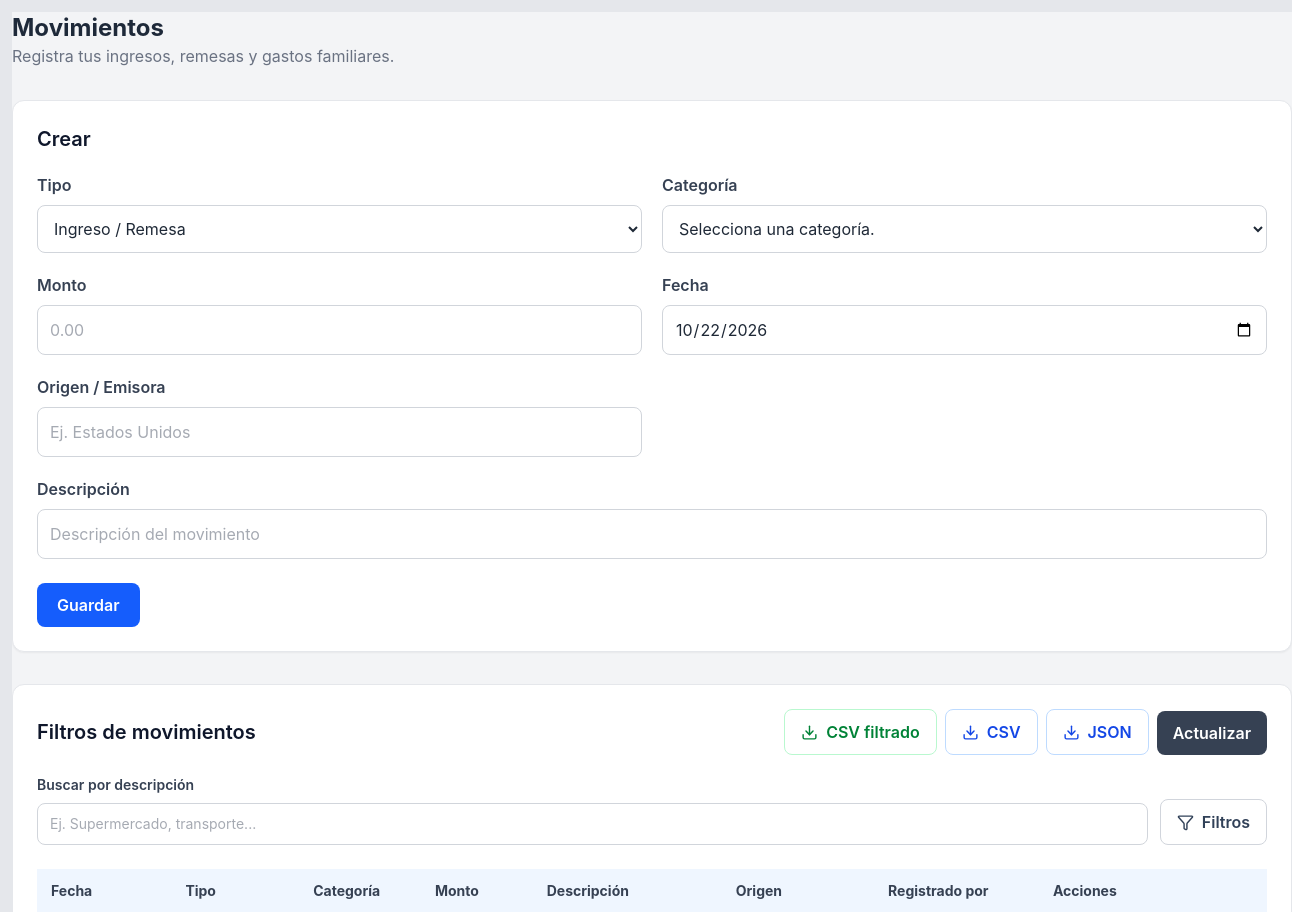
Scenario: Movimientos — exportación › "CSV filtrado" genera el archivo en el cliente con SOLO las filas visibles
Note: Filtro a una sola fila antes de exportar.
Type "supermercado" into the field with id "busquedaMovimientos".
click(592, 824); type("supermercado")  # box [37,803,1148,845]
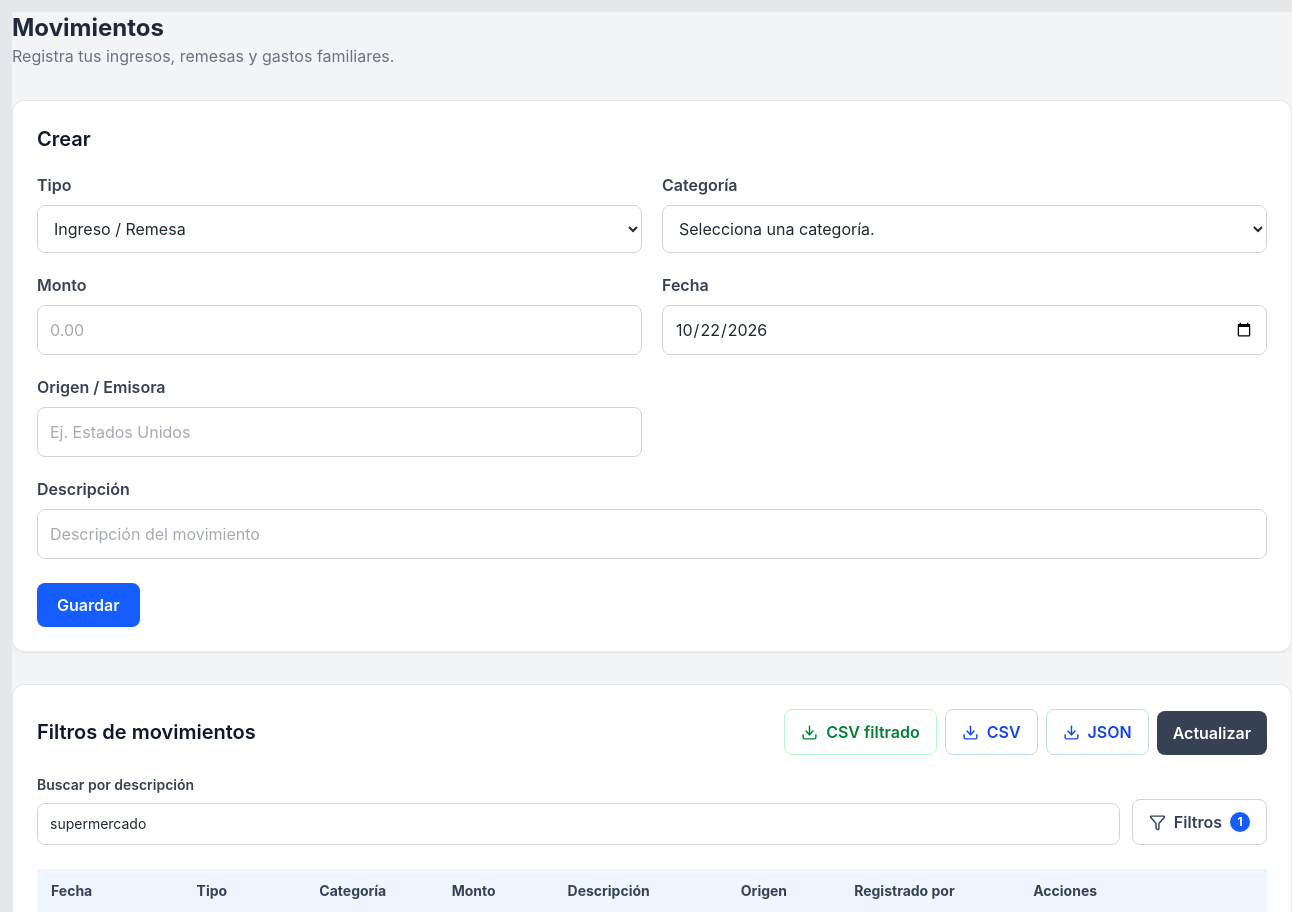
Click the button "CSV filtrado".
click(860, 732)  # box [784,709,937,755]
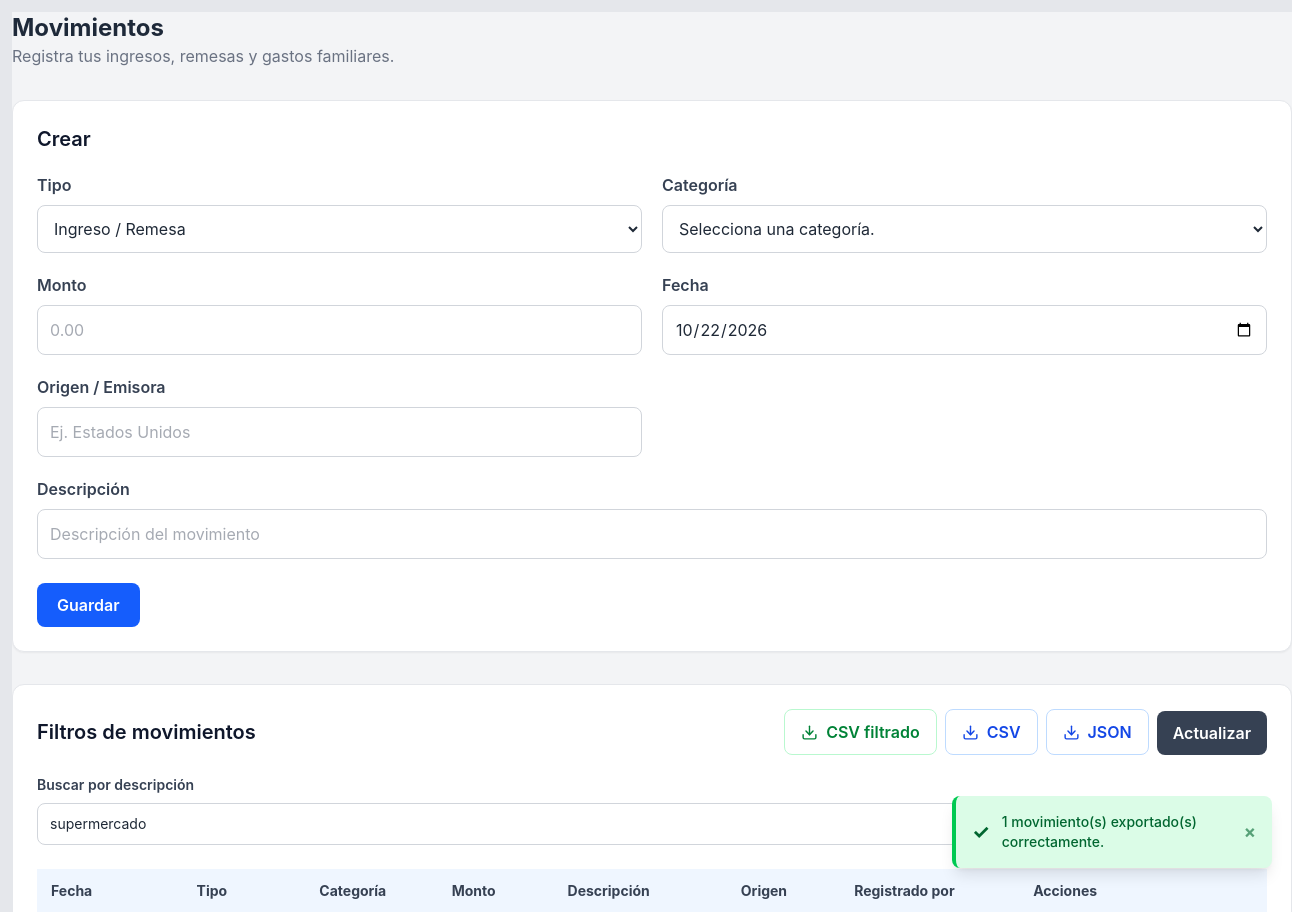
Expected: the text "1 movimiento(s) exportado(s) correctamente." is shown, [1002,813,1197,850]
